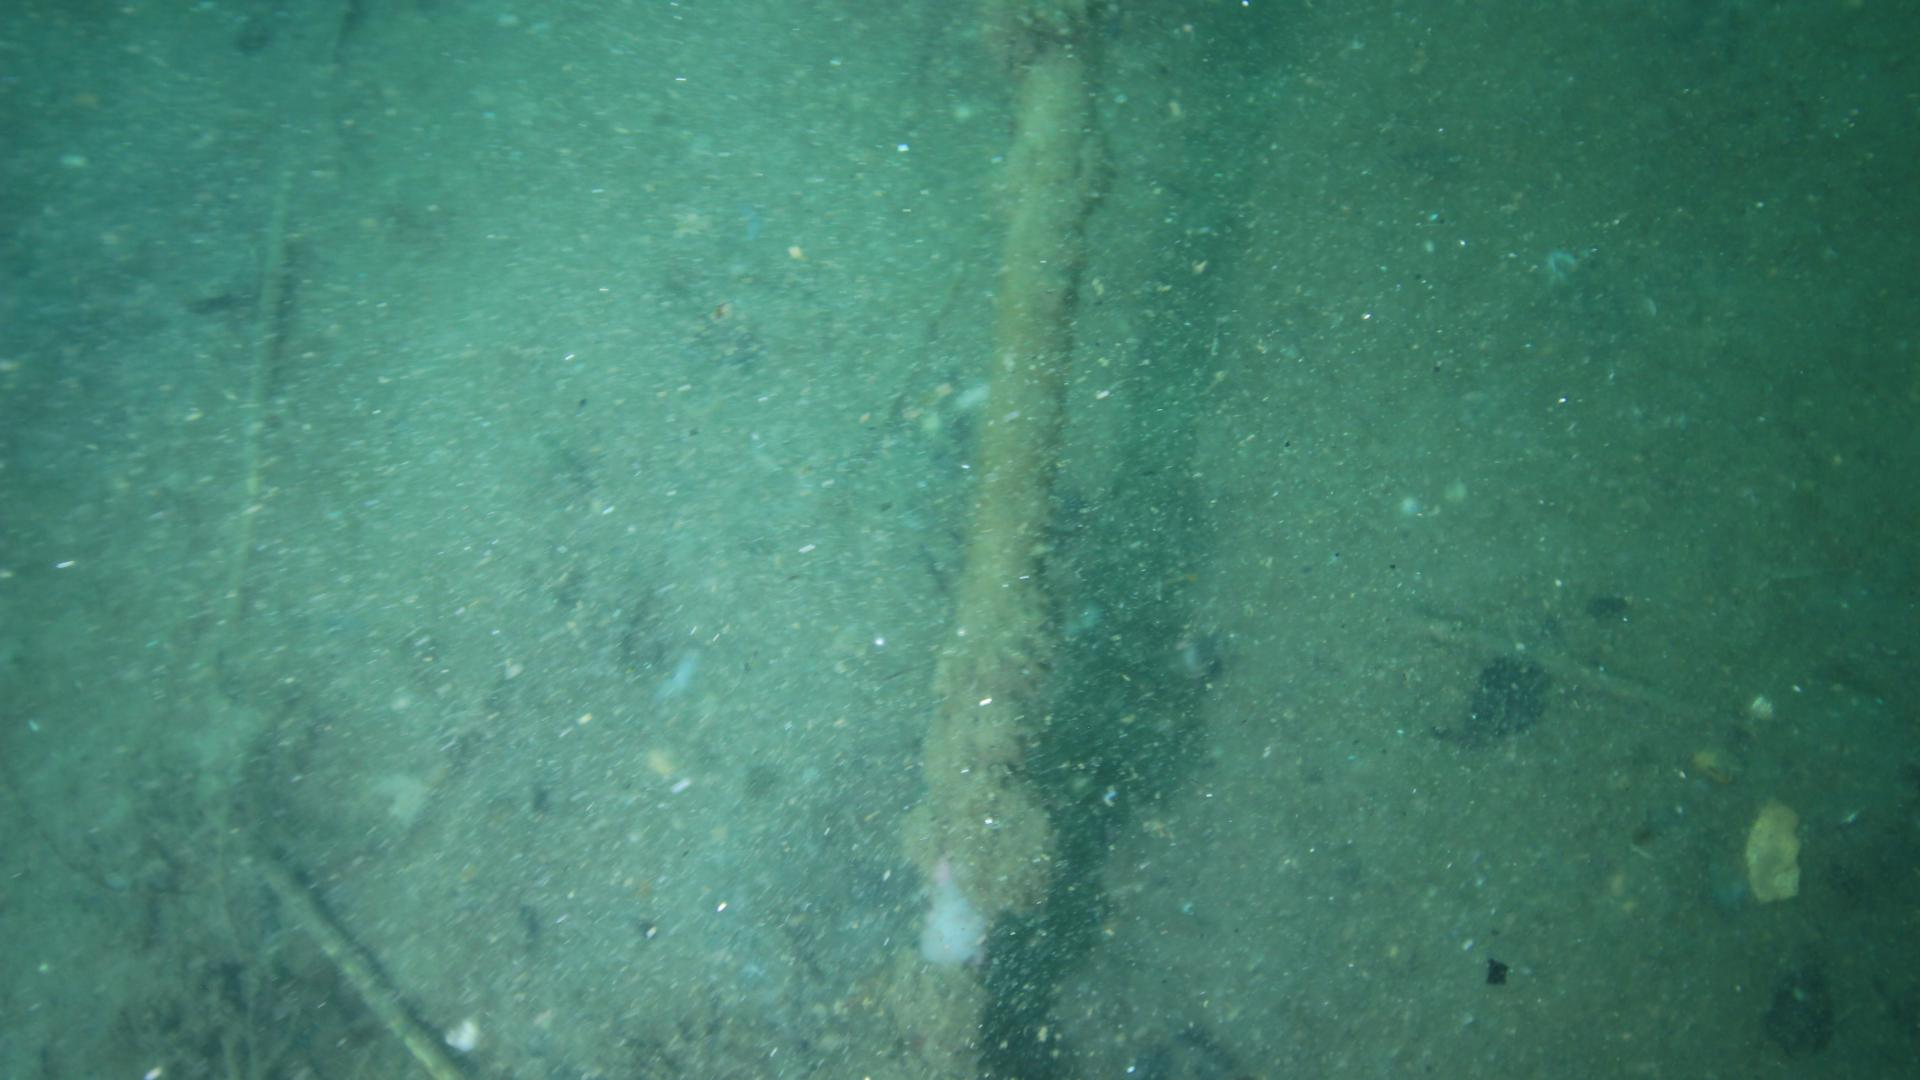rope: (887, 42, 1098, 1080)
